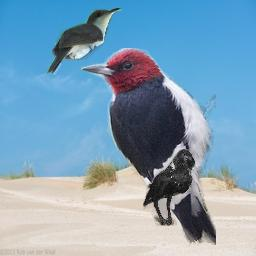Crow: (143, 149, 196, 226)
Cuckoo: (46, 7, 122, 75)
Woodpecker: (81, 48, 216, 245)
